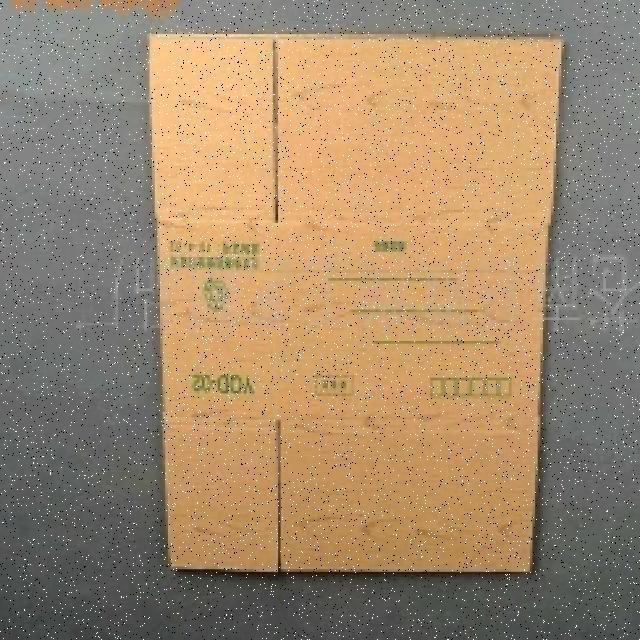box: (138, 13, 540, 584)
